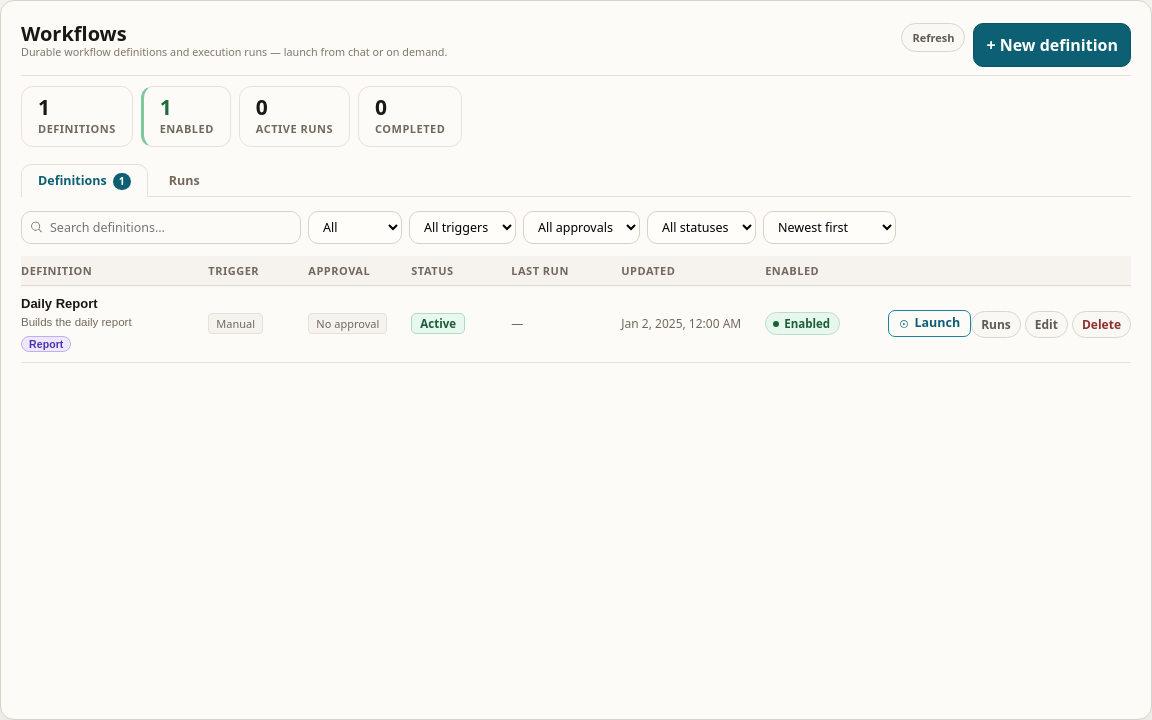
Test case: Definitions list rendering › shows 'No matching definitions' when every definition is filtered out
The width and height of the screenshot is (1152, 720).
Type "zzznomatch" into the search field named "Search workflow definitions" at (161, 227), box top-left (21, 211), bottom-right (301, 244)
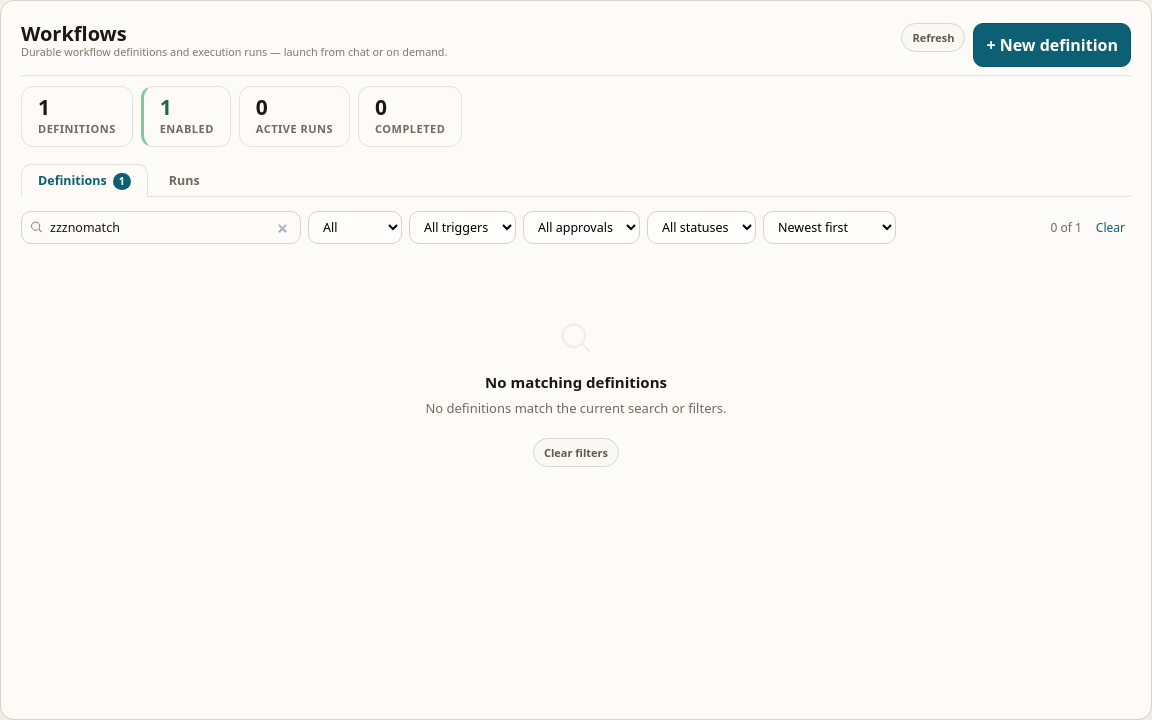
Check: the text "No matching definitions" is shown, box top-left (485, 372), bottom-right (667, 392)
